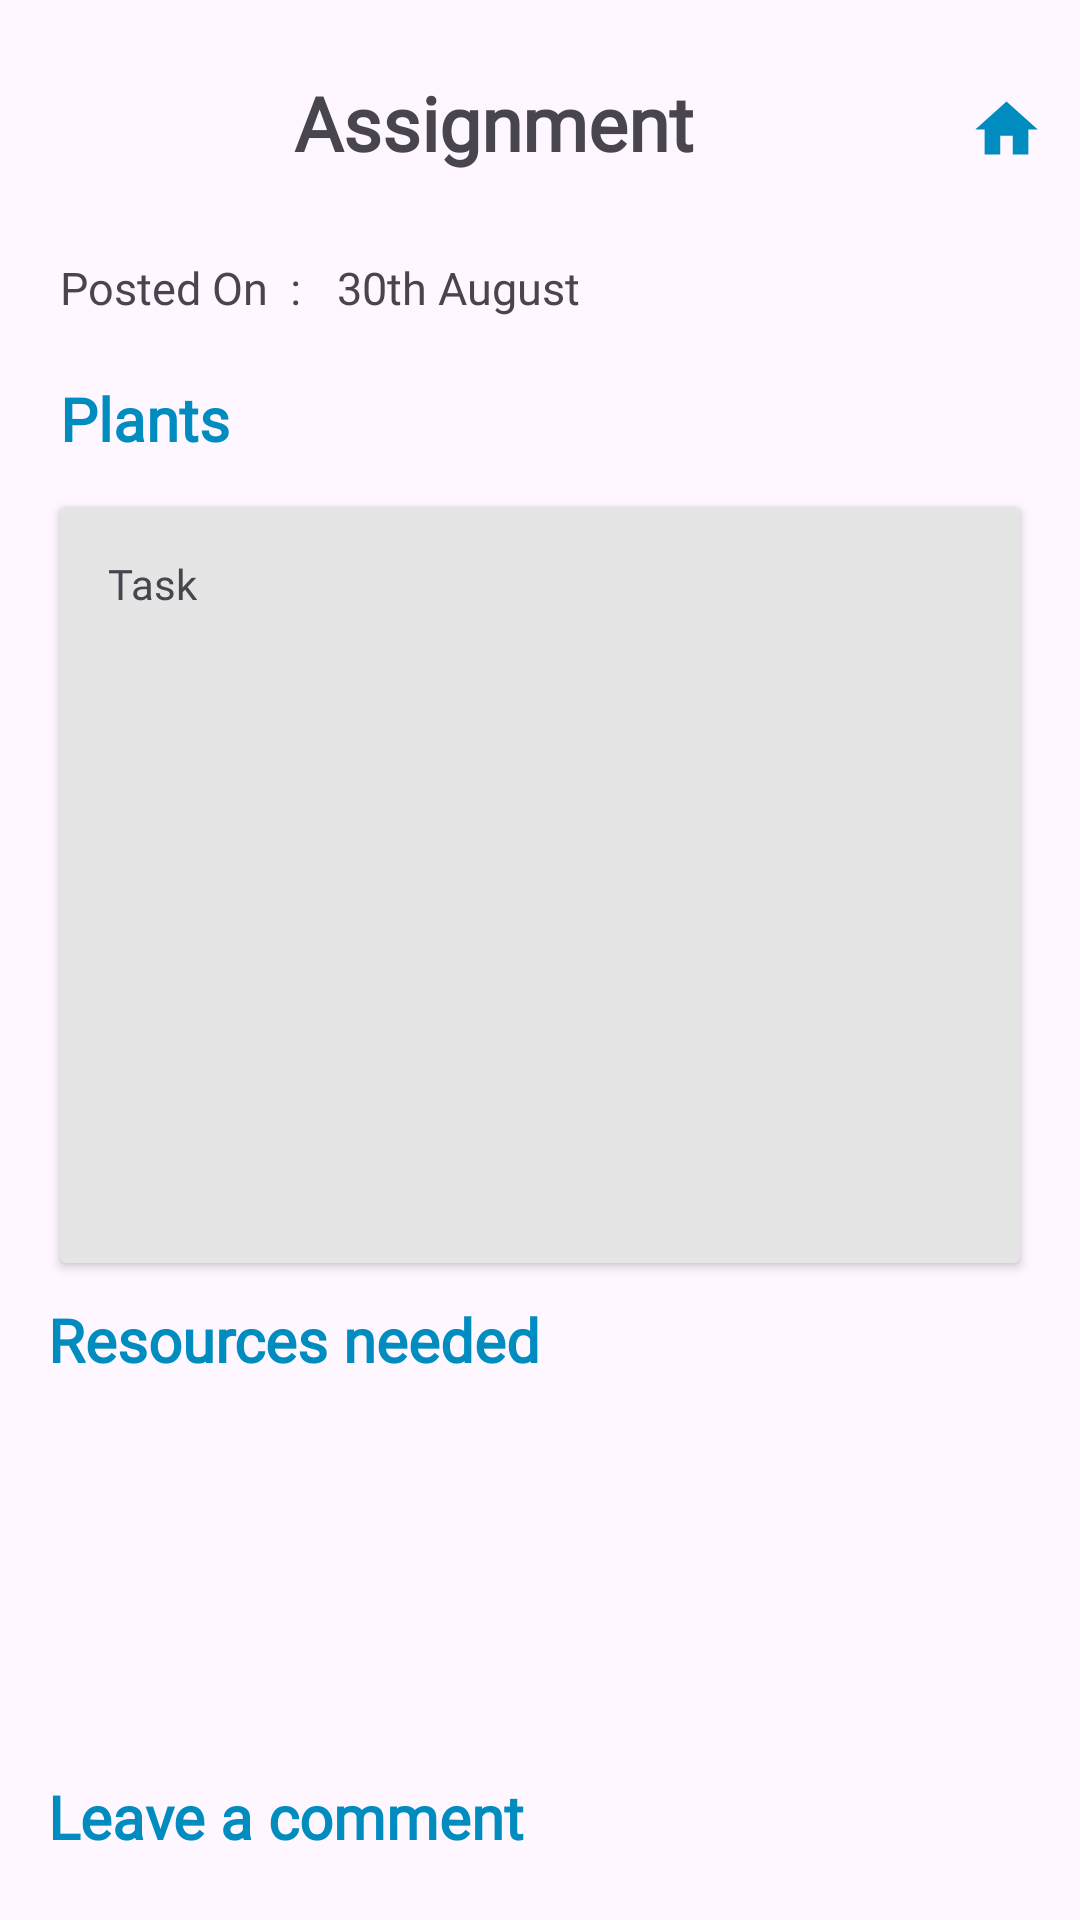

Screen size 1080×1920. Icon name, then its box in pixels as (x1, y1, x2, y2):
home: (975, 101, 1038, 155)
